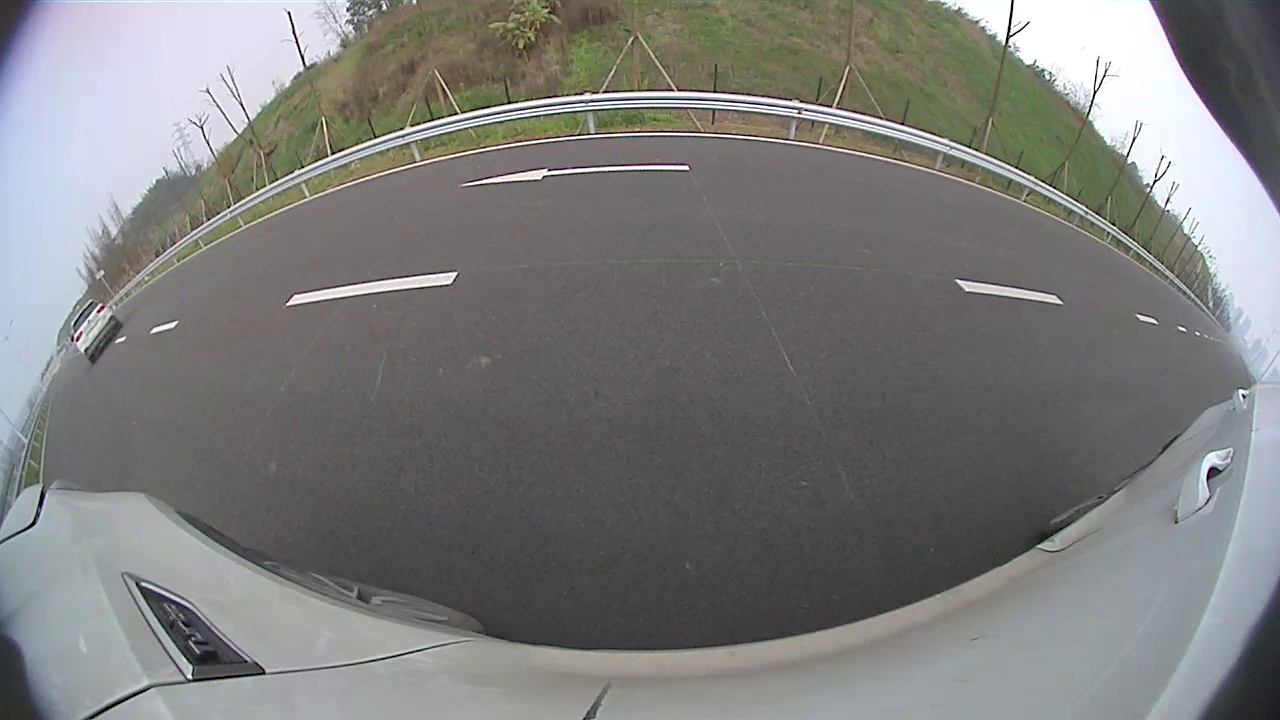car: (71, 299, 123, 364)
